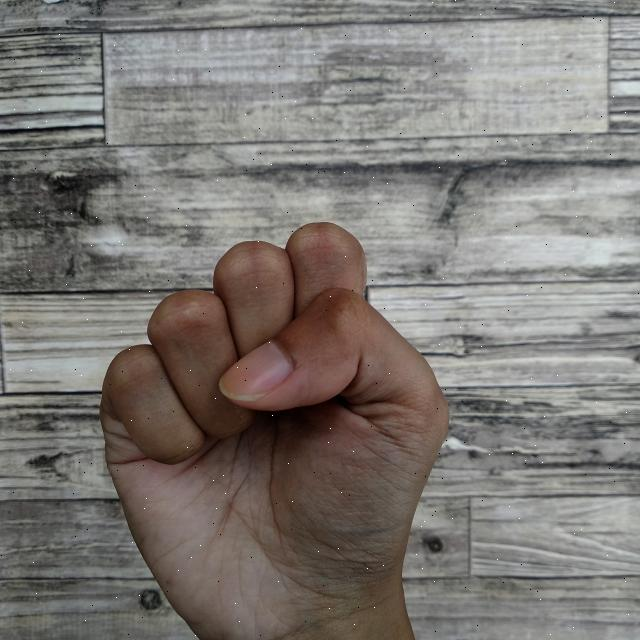S: (91, 211, 456, 640)
